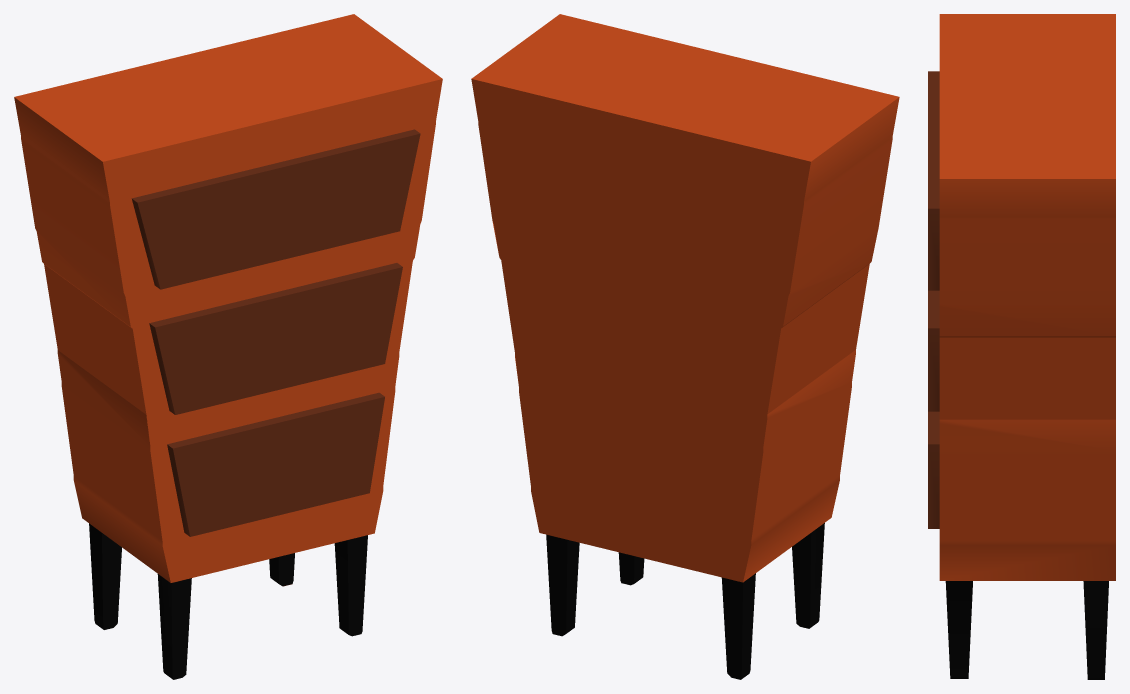
The model's file is Colored Nightstand.fbx.
3 views of the same model, side by side, from view 1: azimuth 30°, elevation 25°; view 2: azimuth 150°, elevation 25°; view 3: azimuth 270°, elevation 25° (orthographic).
Visible parts, largest first — view 1: polySurface14, polySurface10, polySurface15, polySurface12; view 2: polySurface14; view 3: polySurface14, polySurface10, polySurface15, polySurface12.
Boxes of the visible parts, left/top/right/bottom form: polySurface14: left=14, top=14, right=442, bottom=679; polySurface10: left=131, top=129, right=420, bottom=289; polySurface15: left=149, top=263, right=402, bottom=414; polySurface12: left=167, top=392, right=384, bottom=536; polySurface14: left=471, top=14, right=899, bottom=679; polySurface14: left=939, top=14, right=1115, bottom=679; polySurface10: left=928, top=71, right=939, bottom=290; polySurface15: left=928, top=290, right=939, bottom=411; polySurface12: left=928, top=411, right=939, bottom=528.
Size of the model in its own units: 15.2 by 23.12 by 7.32.
2 materials, 2 textured.
